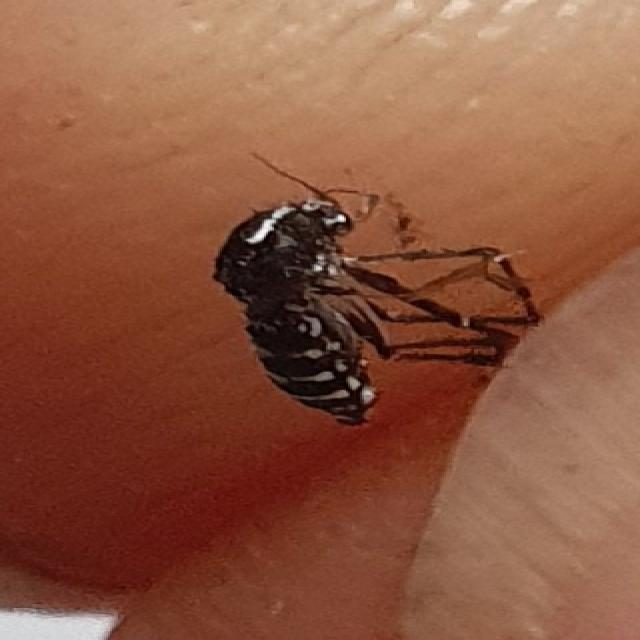albopictus: (174, 142, 560, 431)
